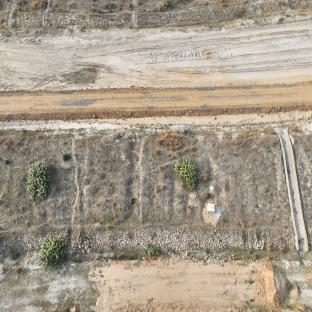rock_toe: (2, 229, 294, 262)
slope_drain: (274, 128, 309, 251)
vegetation: (25, 156, 52, 202), (38, 233, 66, 267), (175, 153, 196, 189)
